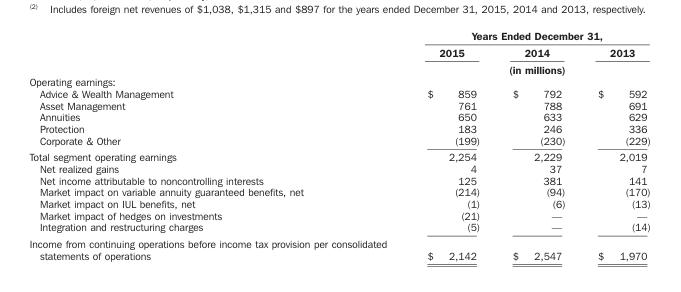table: (28, 28, 649, 261)
table column: (28, 28, 406, 261), (406, 28, 495, 261), (495, 28, 580, 261), (580, 28, 649, 261)
table column header: (28, 28, 649, 75)
table projected row header: (28, 75, 649, 87)
table row: (28, 234, 649, 261), (28, 43, 649, 60), (28, 28, 649, 43), (28, 60, 649, 75), (28, 134, 649, 148), (28, 148, 649, 162), (28, 220, 649, 234), (28, 75, 649, 87), (28, 87, 649, 99), (28, 110, 649, 122), (28, 122, 649, 134), (28, 162, 649, 174), (28, 185, 649, 197), (28, 208, 649, 220), (28, 99, 649, 110), (28, 174, 649, 185), (28, 197, 649, 208)
table spanning cell: (406, 28, 649, 43), (406, 60, 649, 75)
